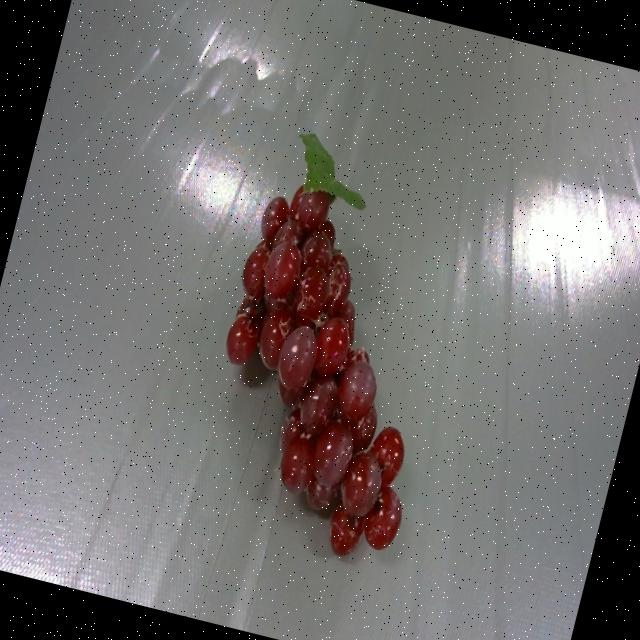grape: (225, 133, 402, 553)
